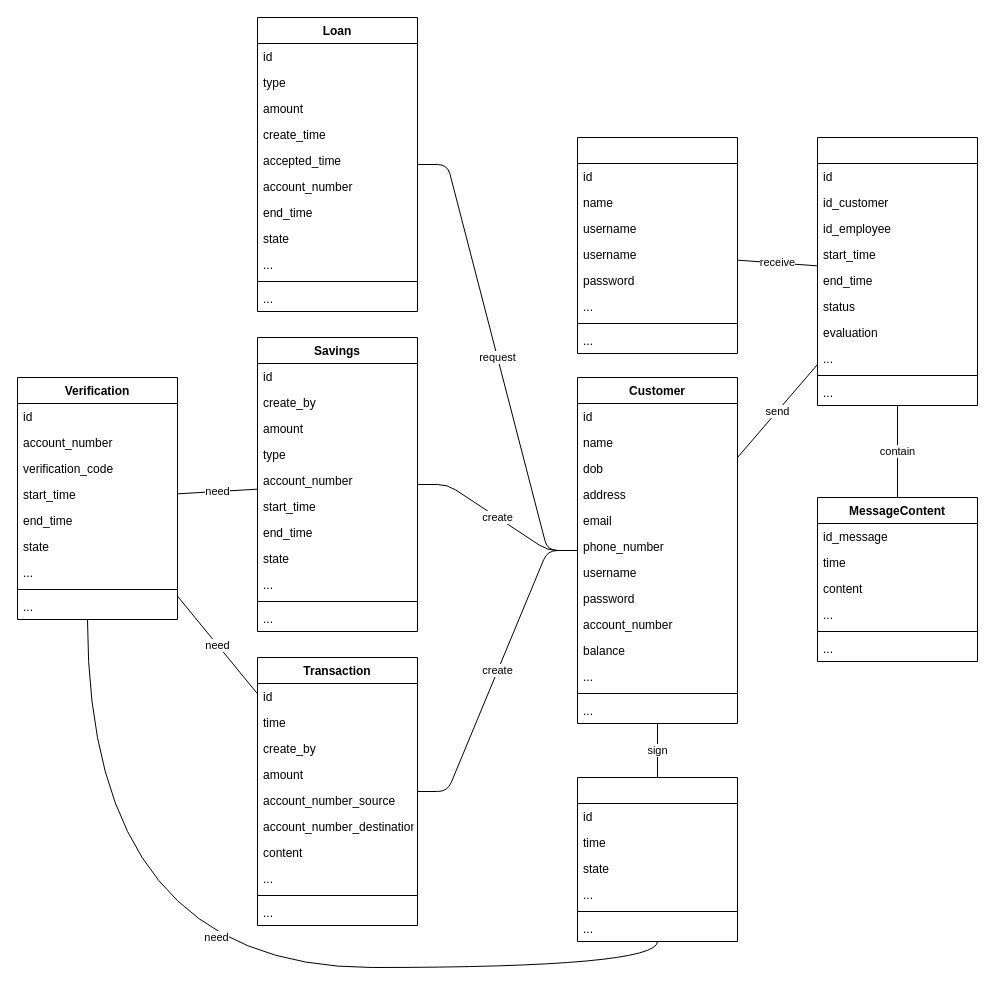
Image size: 995x985. Some labels were removed from this diagram. The shapes that lost their labels are listed below. From the top down, each one's box as (x1, y1, x2, y2) in pixels, then its label:
(576, 136, 738, 354): Empoyee
(816, 136, 978, 406): Message
(576, 776, 738, 942): SignIn
